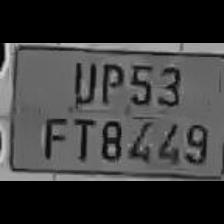3: (152, 60, 182, 108)
4: (124, 112, 152, 164), (153, 114, 179, 164)
5: (124, 59, 154, 107)
8: (95, 114, 123, 164)
9: (180, 118, 208, 164)
F: (38, 111, 70, 160)
P: (96, 57, 124, 106)
T: (69, 112, 95, 162)
U: (68, 56, 96, 108)
